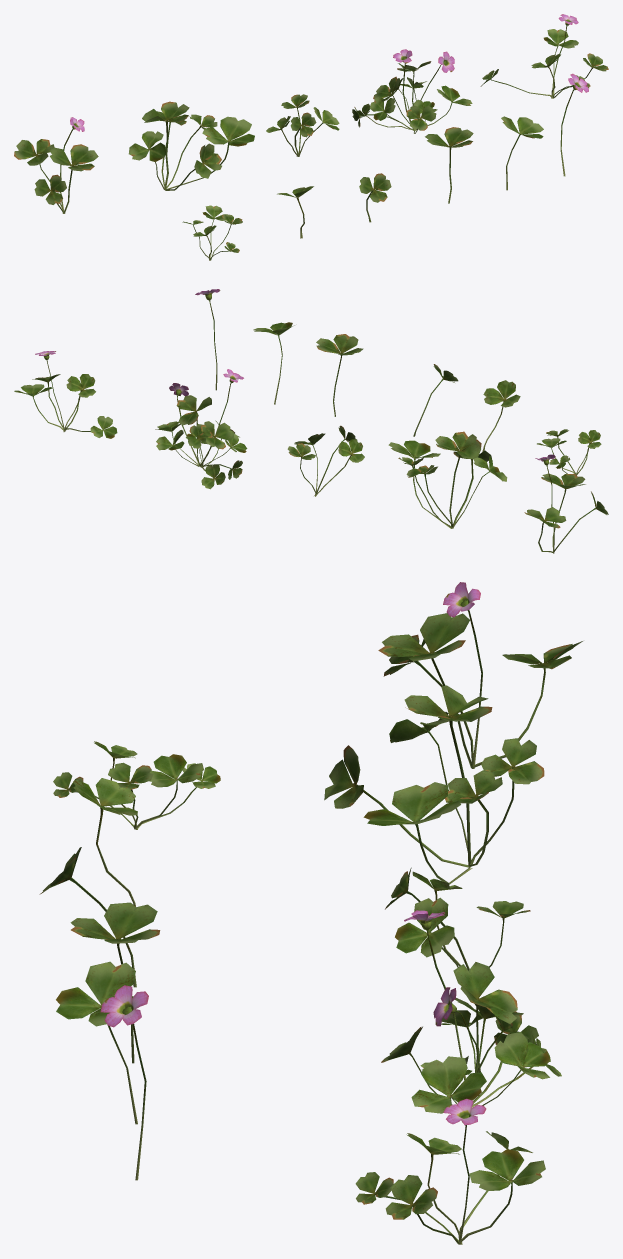
File: shrub_sorrel_01.gltf
The picture shows the model from 3 angles, top to bottom: view 1: azimuth 30°, elevation 25°; view 2: azimuth 150°, elevation 25°; view 3: azimuth 270°, elevation 25°; orthographic projection. The views are drawn at different scales.
Parts seen in each view (by area): view 1: shrub_sorrel_01_b, shrub_sorrel_01_d, shrub_sorrel_01_a, shrub_sorrel_01_e, shrub_sorrel_01_c, shrub_sorrel_01_f, shrub_sorrel_01_i, shrub_sorrel_01_h, shrub_sorrel_01_j, shrub_sorrel_01_k; view 2: shrub_sorrel_01_d, shrub_sorrel_01_b, shrub_sorrel_01_e, shrub_sorrel_01_a, shrub_sorrel_01_c, shrub_sorrel_01_f, shrub_sorrel_01_i, shrub_sorrel_01_g, shrub_sorrel_01_j; view 3: shrub_sorrel_01_b, shrub_sorrel_01_d, shrub_sorrel_01_e, shrub_sorrel_01_a, shrub_sorrel_01_f, shrub_sorrel_01_c, shrub_sorrel_01_j, shrub_sorrel_01_i, shrub_sorrel_01_k, shrub_sorrel_01_g.
Part boxes in pixels (<box>): shrub_sorrel_01_b: <box>128,101,254,190</box>; shrub_sorrel_01_d: <box>352,49,472,133</box>; shrub_sorrel_01_a: <box>14,117,98,213</box>; shrub_sorrel_01_e: <box>480,14,608,98</box>; shrub_sorrel_01_c: <box>266,94,339,156</box>; shrub_sorrel_01_f: <box>182,205,242,260</box>; shrub_sorrel_01_i: <box>425,127,473,203</box>; shrub_sorrel_01_h: <box>359,173,391,222</box>; shrub_sorrel_01_j: <box>501,116,543,190</box>; shrub_sorrel_01_k: <box>560,73,588,176</box>; shrub_sorrel_01_d: <box>155,369,247,489</box>; shrub_sorrel_01_b: <box>388,431,507,528</box>; shrub_sorrel_01_e: <box>14,351,117,438</box>; shrub_sorrel_01_a: <box>524,454,608,553</box>; shrub_sorrel_01_c: <box>287,425,364,496</box>; shrub_sorrel_01_f: <box>537,429,601,475</box>; shrub_sorrel_01_i: <box>316,334,363,416</box>; shrub_sorrel_01_g: <box>482,380,520,451</box>; shrub_sorrel_01_j: <box>253,322,294,404</box>; shrub_sorrel_01_b: <box>324,685,544,884</box>; shrub_sorrel_01_d: <box>381,910,561,1113</box>; shrub_sorrel_01_e: <box>355,1098,545,1244</box>; shrub_sorrel_01_a: <box>378,582,582,768</box>; shrub_sorrel_01_f: <box>53,741,220,829</box>; shrub_sorrel_01_c: <box>385,867,530,970</box>; shrub_sorrel_01_j: <box>56,961,137,1124</box>; shrub_sorrel_01_i: <box>70,902,160,1063</box>; shrub_sorrel_01_k: <box>100,985,148,1180</box>; shrub_sorrel_01_g: <box>73,778,137,906</box>.
Bounding box in the file's own units: 0.3521 × 0.058 × 0.1464.
Materials: 1 (1 with a texture image).
